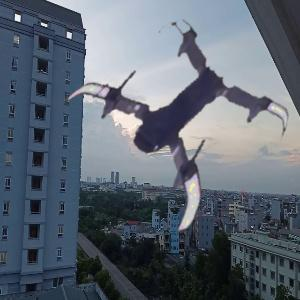drone: (66, 25, 270, 229)
